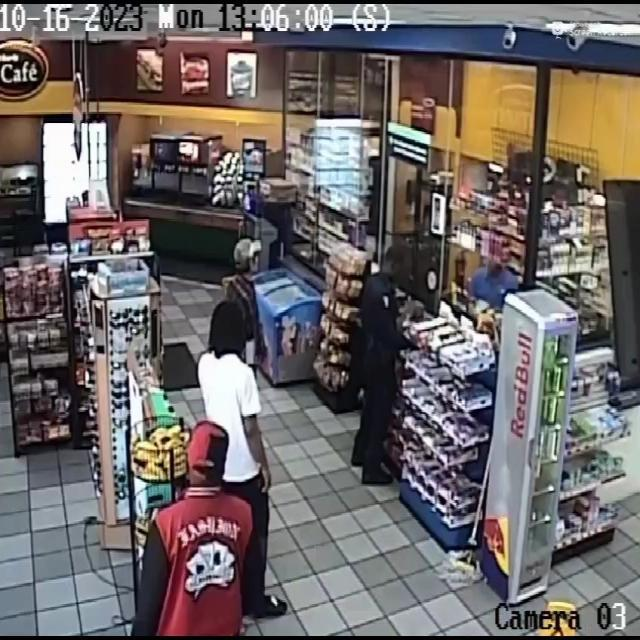Normal: (190, 289, 292, 623), (135, 423, 255, 640), (347, 229, 417, 489), (218, 232, 268, 349)
